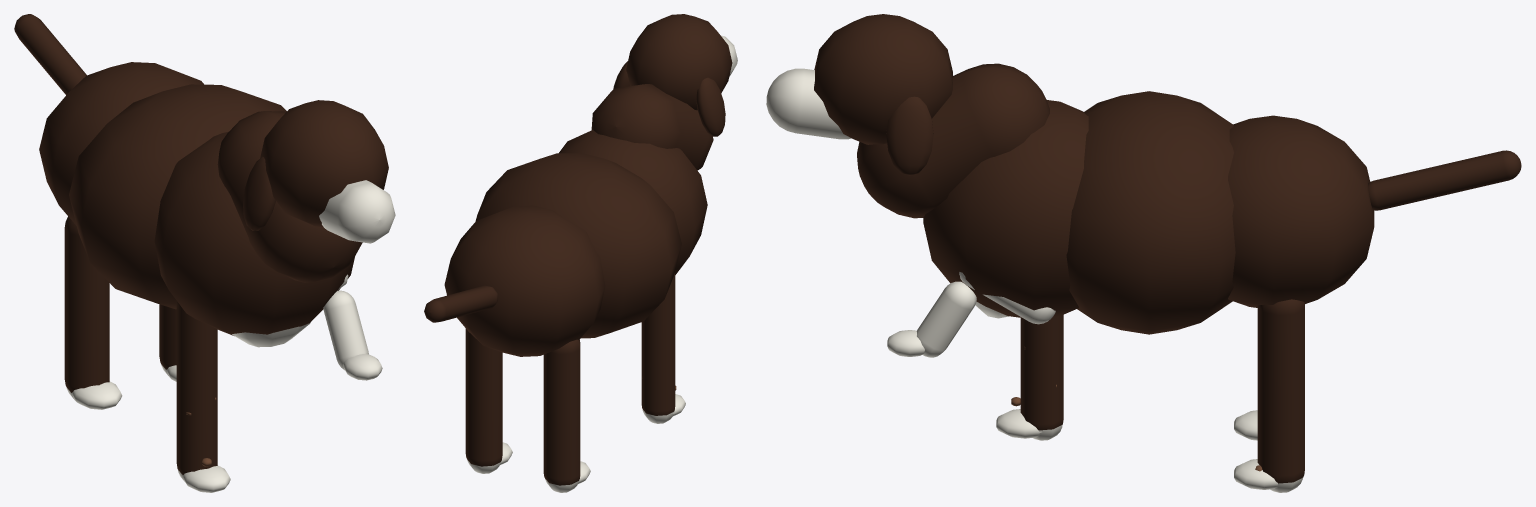
File: gunner.glb
3 views of the same model, side by side, from view 1: azimuth 30°, elevation 25°; view 2: azimuth 150°, elevation 25°; view 3: azimuth 270°, elevation 25° (orthographic). The views are drawn at different scales.
Parts seen in each view (by area): view 1: coat, blaze, pointLeg, tailGeo, socks; view 2: coat, tailGeo, socks; view 3: coat, tailGeo, pointLeg, blaze, socks.
Part boxes in pixels (x1=…): coat: x1=39, y1=62, x2=388, y2=474; blaze: x1=232, y1=180, x2=395, y2=347; pointLeg: x1=323, y1=274, x2=382, y2=380; tailGeo: x1=14, y1=14, x2=86, y2=94; socks: x1=66, y1=365, x2=230, y2=492; coat: x1=444, y1=14, x2=732, y2=485; tailGeo: x1=424, y1=285, x2=497, y2=322; socks: x1=467, y1=394, x2=685, y2=492; coat: x1=814, y1=14, x2=1374, y2=483; tailGeo: x1=1368, y1=150, x2=1521, y2=210; pointLeg: x1=887, y1=272, x2=1055, y2=357; blaze: x1=766, y1=68, x2=1008, y2=318; socks: x1=996, y1=409, x2=1303, y2=492.
Size of the model in its own units: 0.644 by 1.11 by 1.7.
